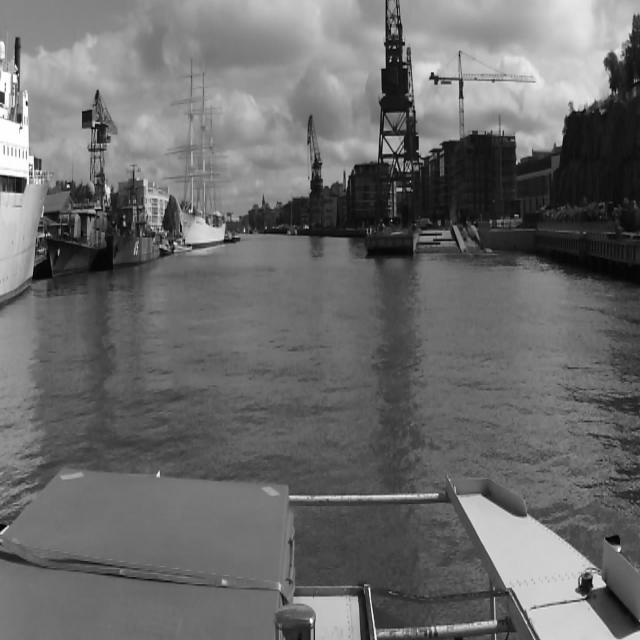ship: (162, 60, 227, 252), (4, 72, 48, 305), (46, 167, 104, 278), (106, 206, 160, 268), (172, 237, 192, 254), (286, 202, 296, 235), (160, 237, 170, 255)
